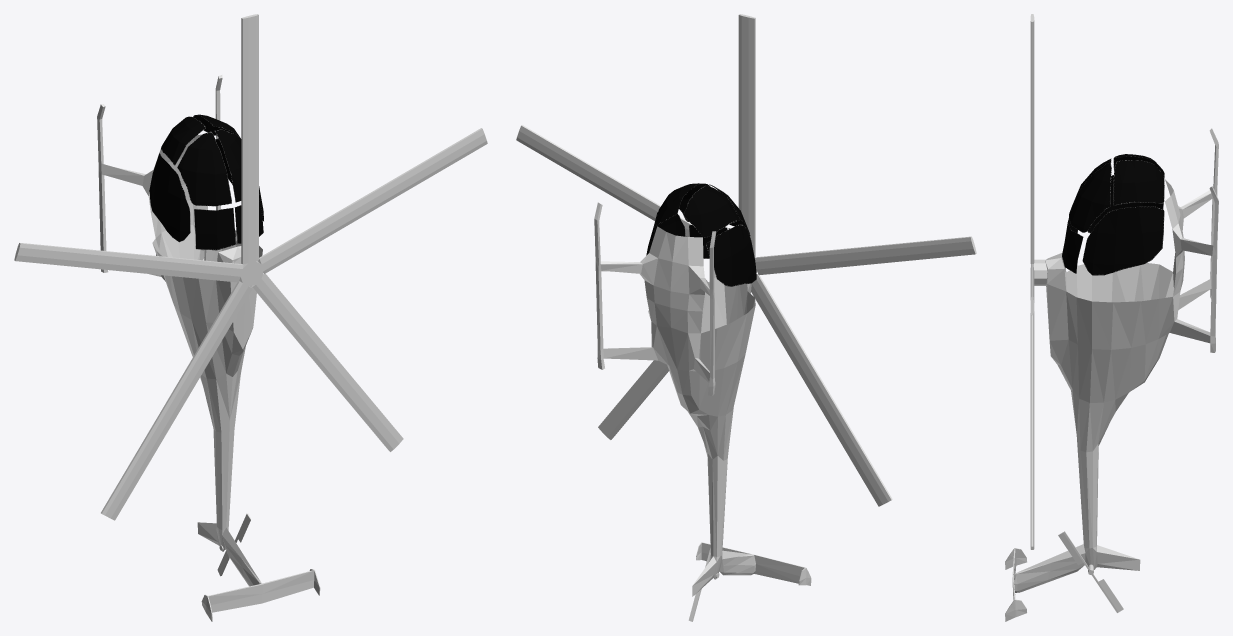
3 renders of one model, left to right at view 1: azimuth 30°, elevation 25°; view 2: azimuth 150°, elevation 25°; view 3: azimuth 270°, elevation 25°, orthographic. The views are drawn at different scales.
Visible parts, largest first — view 1: MainRotor, HeliBody, HeliWindShield; view 2: HeliBody, MainRotor, HeliWindShield; view 3: HeliBody, HeliWindShield, MainRotor, TailRotor.
Boxes of the visible parts, x1,y1,x2,y2 form: MainRotor: [14, 14, 487, 520]; HeliBody: [97, 75, 320, 621]; HeliWindShield: [149, 114, 263, 250]; HeliBody: [594, 202, 811, 596]; MainRotor: [516, 14, 976, 506]; HeliWindShield: [646, 183, 756, 286]; HeliBody: [1005, 128, 1218, 621]; HeliWindShield: [1062, 154, 1164, 275]; MainRotor: [1030, 14, 1047, 549]; TailRotor: [1058, 531, 1123, 612].
Size of the model in its own units: 10.2 by 12.27 by 4.04.
Materials: 1 (1 with a texture image).
